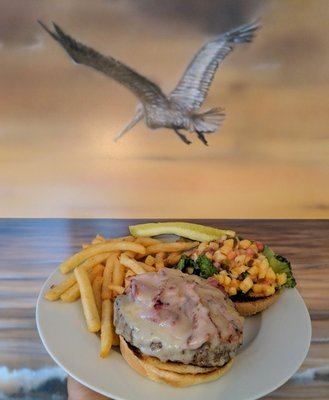curry: (178, 254, 219, 278)
soup: (113, 268, 245, 388)
